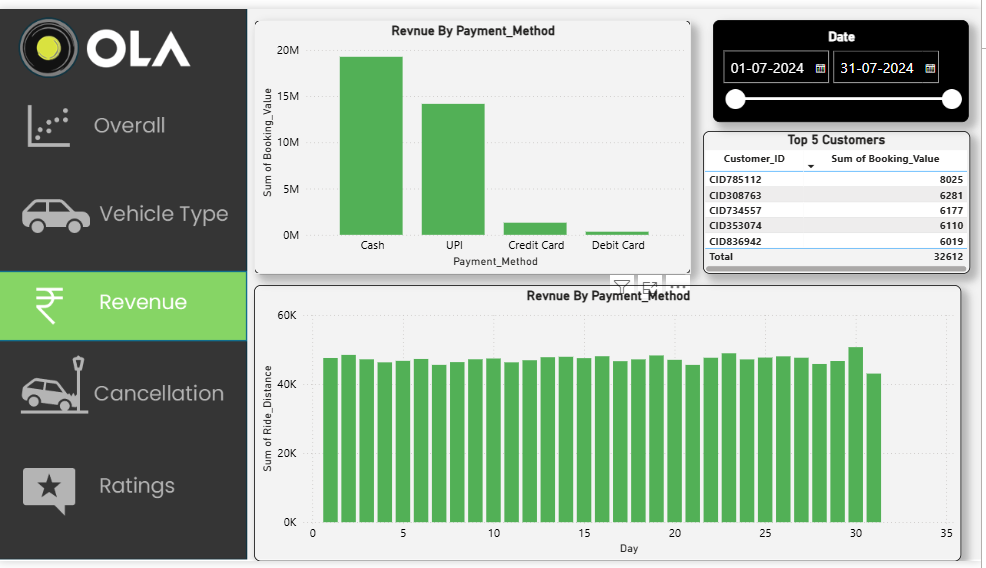

Layout of this report page (visuals, bound fields, positions):
{"tool":"powerbi","page":{"name":"Revnue","canvas":[1280,720],"ordinal":2},"visuals":[{"type":"columnChart","title":"Revnue By Payment_Method","fields":{"Y":["Sum(Bookings.Booking_Value)"],"Category":["Bookings.Payment_Method"]},"box":[333.3,14.3,569,330.7],"z":0},{"type":"columnChart","title":"Revnue By Payment_Method","fields":{"Y":["Sum(Bookings.Ride_Distance)"],"Category":["Bookings.Date.Variation.Date Hierarchy.Day"]},"box":[332.9,359.8,921.4,359.8],"z":1000},{"type":"slicer","title":"Date","fields":{"Values":["Bookings.Date"]},"box":[931,14.3,333.3,132.8],"z":2000},{"type":"tableEx","title":"Top 5 Customers","fields":{"Values":["Bookings.Customer_ID","Sum(Bookings.Booking_Value)"]},"box":[918,158.9,347.7,186.2],"z":3000},{"type":"actionButton","box":[0,223.6,322.6,79.7],"z":4000},{"type":"actionButton","box":[10,233.6,322.6,79.7],"z":5000},{"type":"actionButton","box":[0,448.5,322.6,86.1],"z":6000},{"type":"actionButton","box":[0,565.5,322.6,100.2],"z":7000},{"type":"actionButton","box":[0,114.4,322.6,79.7],"z":8000},{"type":"actionButton","box":[10,124.4,322.6,79.7],"z":9000},{"type":"actionButton","box":[0,108,322.6,86.1],"z":10000}]}

Visuals, with their boxes in screenshot pixels (x1, y1, x2, y2), scaled from the page's 1280x720 canvas onto the 986x568 screenshot:
"Revnue By Payment_Method" columnChart: <region>257, 11, 695, 272</region>
"Revnue By Payment_Method" columnChart: <region>256, 284, 966, 567</region>
"Date" slicer: <region>717, 11, 974, 116</region>
"Top 5 Customers" tableEx: <region>707, 125, 975, 272</region>
actionButton: <region>0, 176, 249, 239</region>
actionButton: <region>8, 184, 256, 247</region>
actionButton: <region>0, 354, 249, 422</region>
actionButton: <region>0, 446, 249, 525</region>
actionButton: <region>0, 90, 249, 153</region>
actionButton: <region>8, 98, 256, 161</region>
actionButton: <region>0, 85, 249, 153</region>
